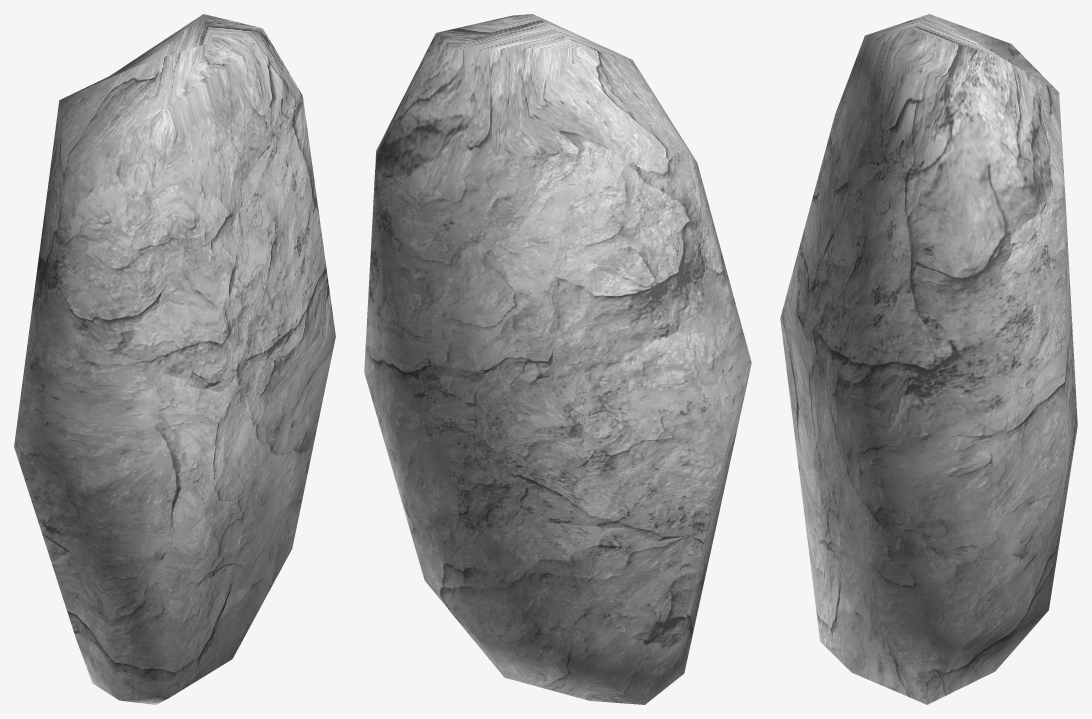
Rendered from Rock_Big_03.fbx.
3 views of the same model, side by side, from view 1: azimuth 30°, elevation 25°; view 2: azimuth 150°, elevation 25°; view 3: azimuth 270°, elevation 25° (orthographic). The views are drawn at different scales.
Parts seen in each view (by area): view 1: Rock_Big_03; view 2: Rock_Big_03; view 3: Rock_Big_03.
Boxes of the visible parts, left/top/right/bottom form: Rock_Big_03: left=14, top=14, right=335, bottom=704; Rock_Big_03: left=364, top=14, right=751, bottom=704; Rock_Big_03: left=780, top=14, right=1077, bottom=704.
Bounding box in the file's own units: 6901 × 13532 × 5251.
